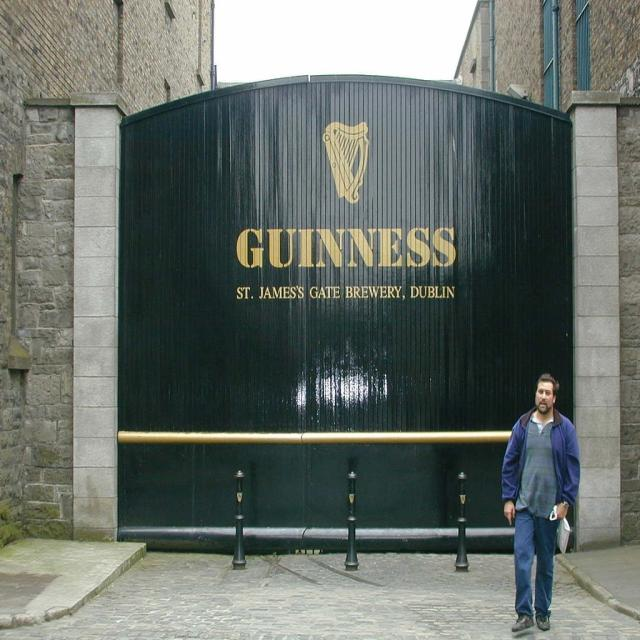guiness: (235, 115, 464, 274)
